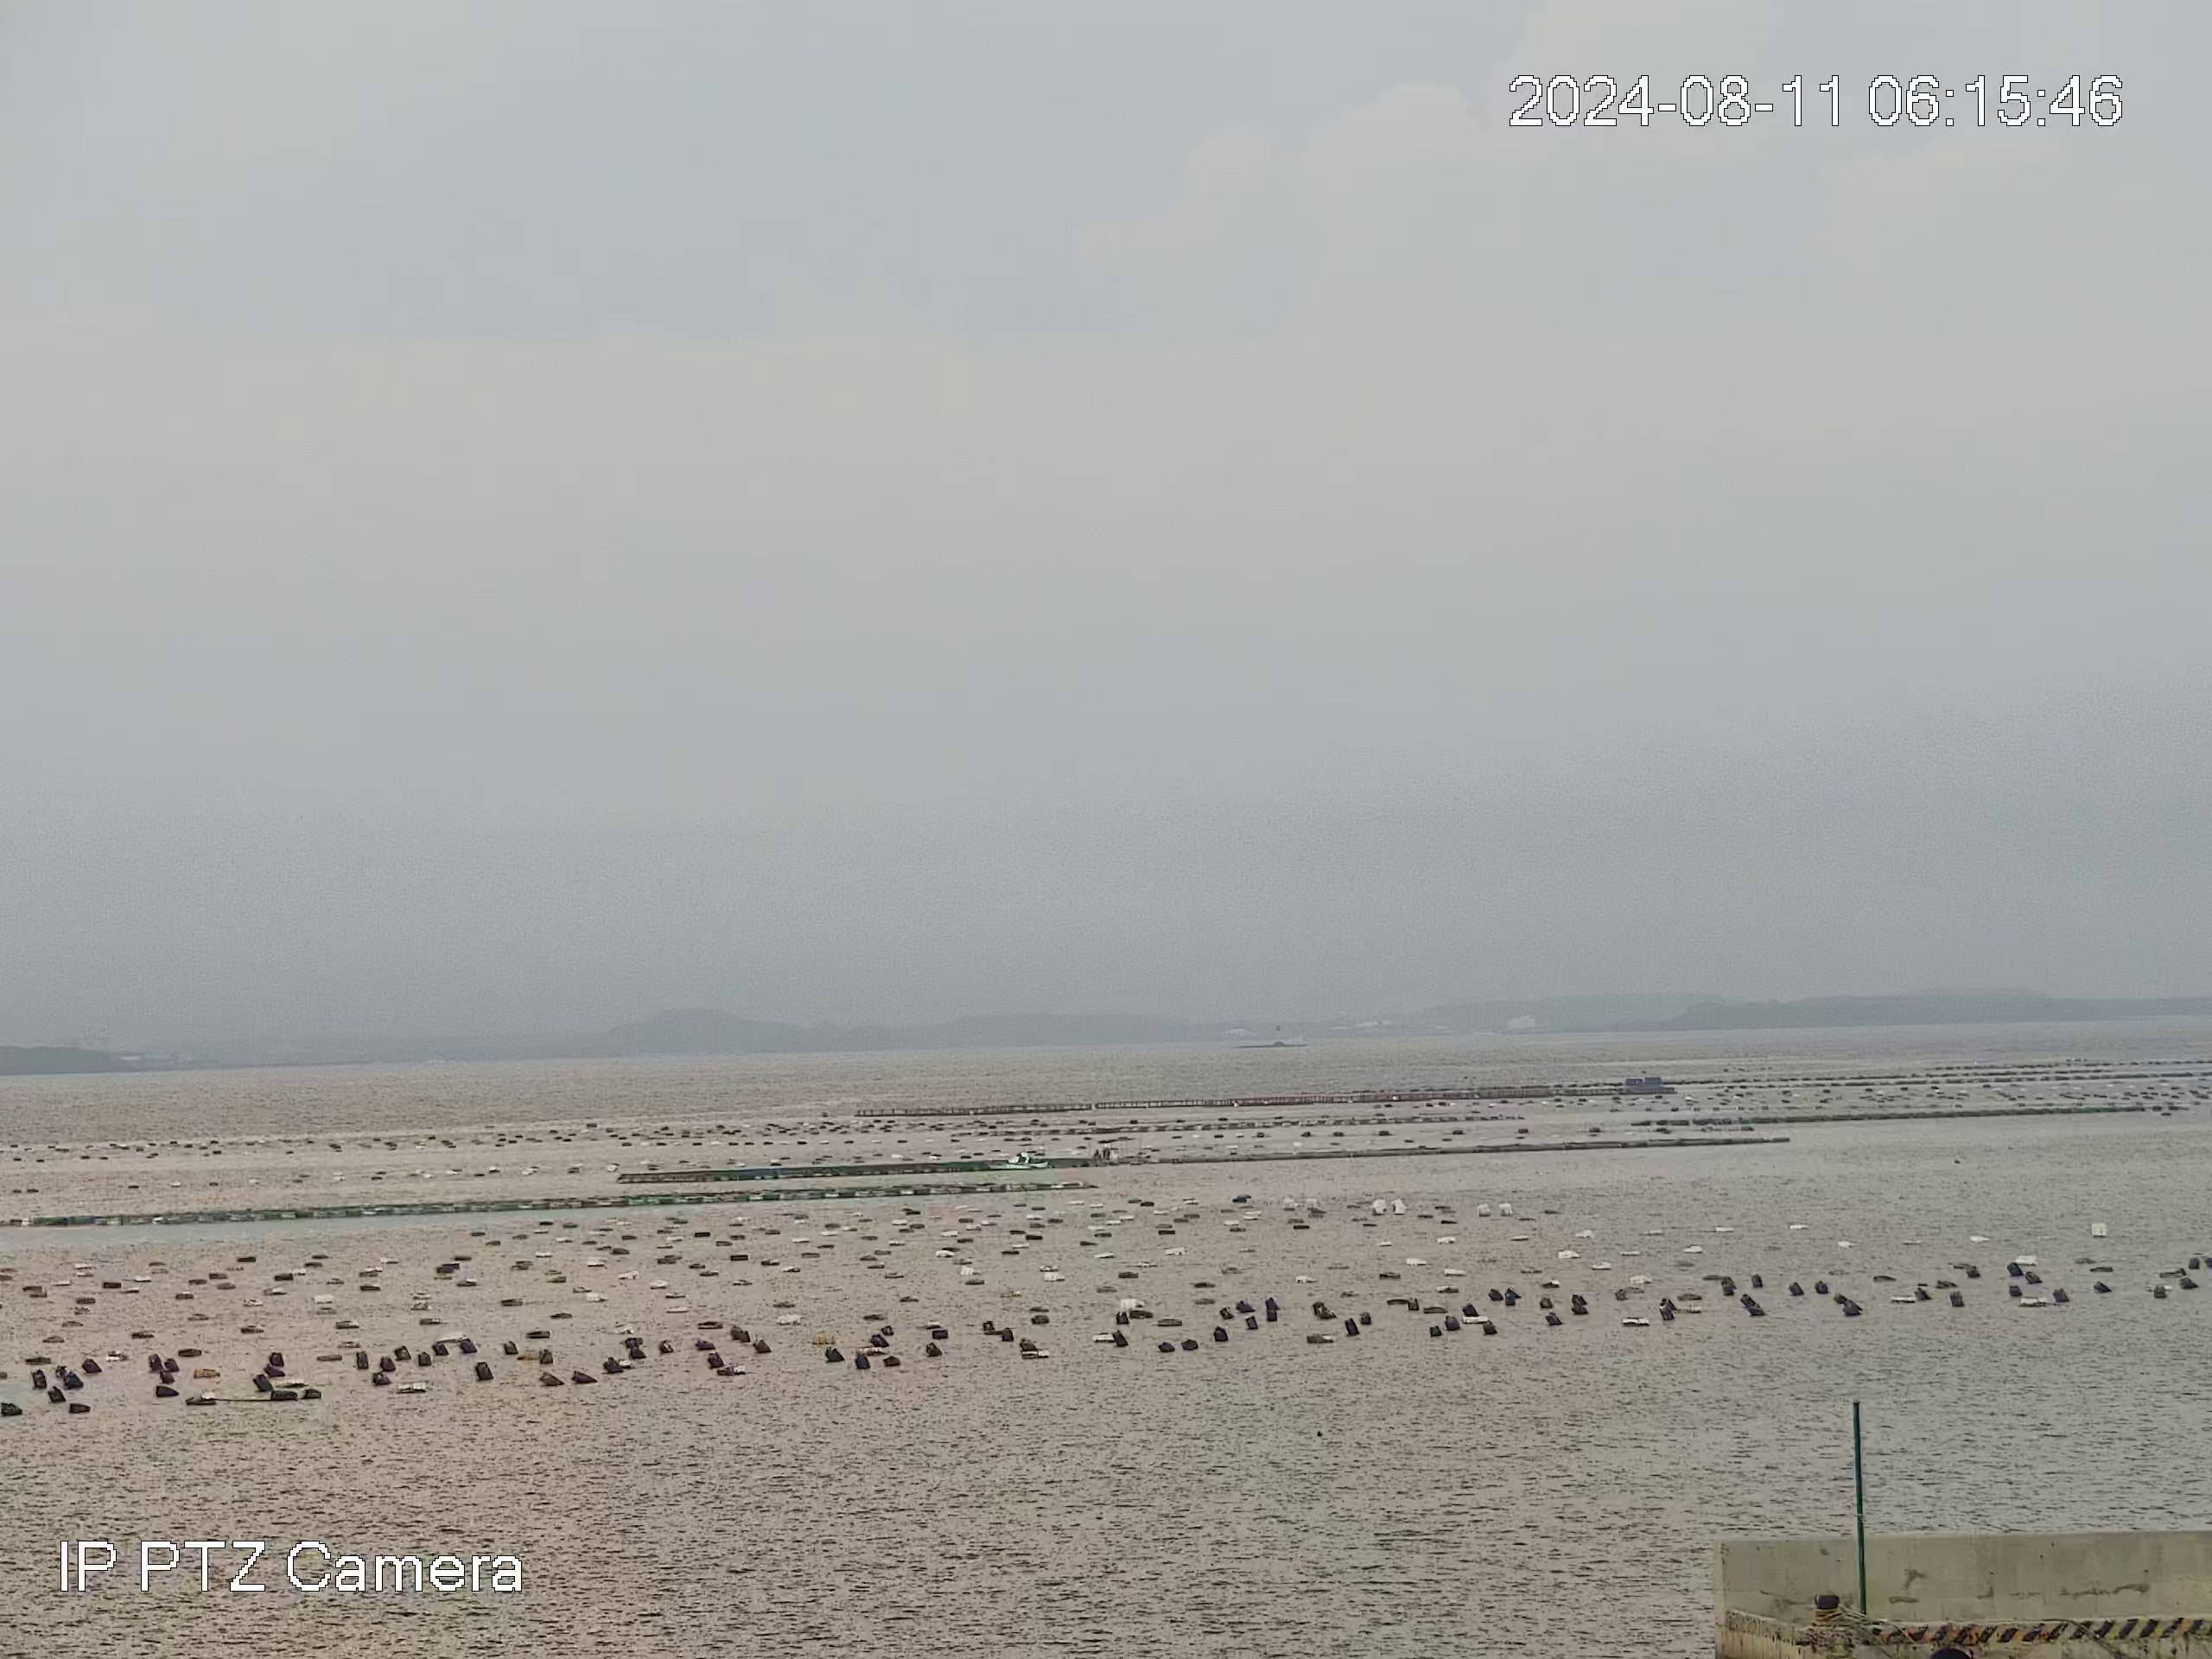boat: (986, 1148, 1050, 1171)
